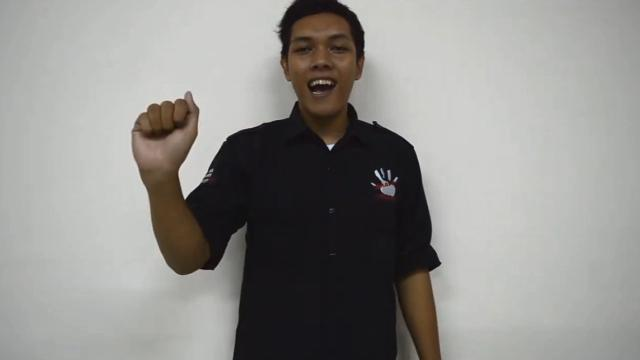A: (121, 90, 206, 190)
